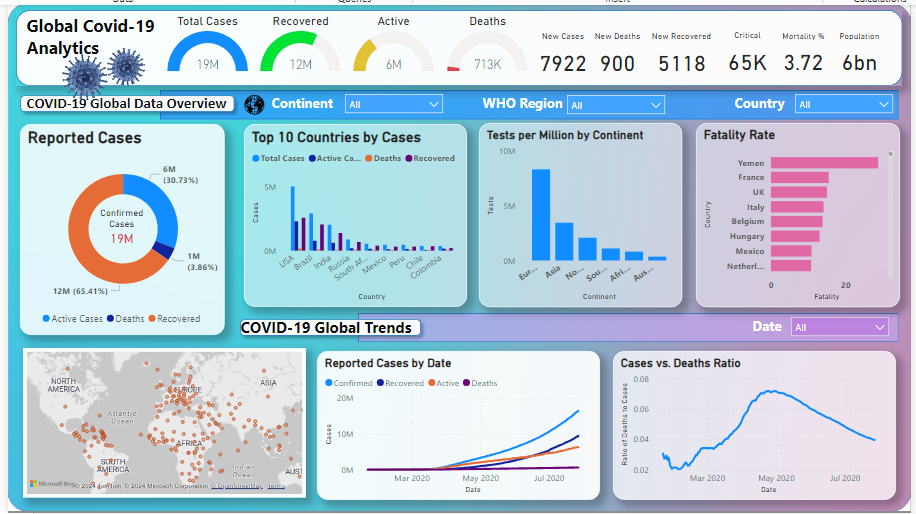

This screenshot's page, from the dashboard's own definition file:
{"tool":"powerbi","page":{"name":"Page 1","canvas":[1280,720],"ordinal":0},"visuals":[{"type":"donutChart","title":"Reported Cases","fields":{"Y":["worldometer_data.Active Case","worldometer_data.Deaths","worldometer_data.Recovered"]},"box":[16.7,168.1,290.3,298.6],"z":0},{"type":"shape","box":[495.9,436.6,766.2,41.4],"z":1000},{"type":"shape","box":[215.2,120.3,1046.8,41.8],"z":2000},{"type":"shape","box":[8.6,118.6,321.4,41.4],"z":3000},{"type":"shape","box":[11.2,7.5,1256.2,107.5],"z":4000},{"type":"map","fields":{"Category":["worldometer_data.Country/Region"]},"box":[21.7,485.5,401.4,211.6],"z":5000},{"type":"gauge","title":"Total Cases","fields":{"Y":["Sum(worldometer_data.TotalCases)"]},"box":[216.7,12.4,132.2,86.2],"z":6000},{"type":"gauge","title":"Active","fields":{"Y":["Sum(worldometer_data.ActiveCases)"]},"box":[481,12.4,132.2,86.2],"z":7000},{"type":"gauge","title":"Deaths","fields":{"Y":["Sum(worldometer_data.TotalDeaths)"]},"box":[613.2,12.4,132.2,86.2],"z":8000},{"type":"gauge","title":"Recovered","fields":{"Y":["Sum(worldometer_data.TotalRecovered)"]},"box":[348.9,12.4,132.2,86.2],"z":9000},{"type":"card","title":"New Cases","fields":{"Values":["Sum(worldometer_data.NewCases)"]},"box":[733.8,36.2,105,73.8],"z":10000},{"type":"card","title":"New Deaths","fields":{"Values":["Sum(worldometer_data.NewDeaths)"]},"box":[823.8,36.2,103.8,73.8],"z":11000},{"type":"card","title":"New Recovered","fields":{"Values":["Sum(worldometer_data.NewRecovered)"]},"box":[927.5,36.2,102.5,73.8],"z":12000},{"type":"slicer","fields":{"Values":["worldometer_data.Continent"]},"box":[467.4,116.6,158.9,45.7],"z":13000},{"type":"card","title":"Critical","fields":{"Values":["Sum(worldometer_data.Serious,Critical)"]},"box":[1020,37.5,103.8,72.5],"z":14000},{"type":"card","title":"Confirmed Cases","fields":{"Values":["Sum(worldometer_data.TotalCases)"]},"box":[116.7,287.5,90.3,61.1],"z":15000},{"type":"lineChart","title":"Reported Cases by Date","fields":{"Category":["full_grouped.Date.Variation.Date Hierarchy.Year"],"Y":["Sum(full_grouped.Confirmed)","Sum(full_grouped.Recovered)","Sum(full_grouped.Active)","Sum(full_grouped.Deaths)"]},"box":[438.6,490,401.4,211.4],"z":16000},{"type":"clusteredColumnChart","title":"Top 10 Countries by Cases","fields":{"Category":["worldometer_data.Country/Region"],"Y":["Sum(worldometer_data.TotalCases)","worldometer_data.Active Cases","worldometer_data.Deaths","worldometer_data.Recovered"]},"box":[334.8,168.1,315.9,259.4],"z":17000},{"type":"card","title":"Mortality %","fields":{"Values":["worldometer_data.FatalityRate"]},"box":[1110,36.2,103.8,72.5],"z":18000},{"type":"image","box":[52.5,30,163.8,136.2],"z":19000},{"type":"textbox","box":[21.2,7.5,198.8,80],"z":20000},{"type":"image","box":[1198.6,0,81.9,55.6],"z":21000},{"type":"textbox","box":[21.4,120,314.3,41.4],"z":22000},{"type":"image","box":[330.4,120.7,38,42.4],"z":23000},{"type":"textbox","box":[368.5,120.7,112,68],"z":24000},{"type":"slicer","fields":{"Values":["worldometer_data.WHO Region"]},"box":[781.7,117.1,158.9,44.6],"z":25000},{"type":"textbox","box":[668,120.7,144.4,59.8],"z":26000},{"type":"slicer","fields":{"Values":["worldometer_data.Country/Region"]},"box":[1105.5,116.6,158.7,45.5],"z":27000},{"type":"textbox","box":[1025.1,120.9,88.5,53.6],"z":28000},{"type":"shape","box":[319.6,437,274,41.1],"z":29000},{"type":"textbox","box":[324.9,437,261.1,42.6],"z":30000},{"type":"slicer","fields":{"Values":["full_grouped.Date"]},"box":[1099.8,432.3,158.7,45.5],"z":31000},{"type":"textbox","box":[1050,437.1,58.6,52.9],"z":32000},{"type":"lineChart","title":"Cases vs. Deaths Ratio","fields":{"Category":["full_grouped.Date"],"Y":["full_grouped.DeathToCaseRatio"]},"box":[857.1,490,401.4,211.4],"z":33000},{"type":"barChart","title":" Fatality Rate","fields":{"Category":["worldometer_data.Country/Region"],"Y":["Sum(worldometer_data.Fatality Rate)"]},"box":[975,166.7,288.9,261.1],"z":34000},{"type":"columnChart","title":"Tests per Million by Continent","fields":{"Y":["Sum(worldometer_data.Tests/1M pop)"],"Category":["worldometer_data.Continent"]},"box":[668.1,166.7,288.4,260.9],"z":35000}]}

Visuals, with their boxes in screenshot pixels (x1, y1, x2, y2), scaled from the page's 1280x720 canvas onto the 916x514 screenshot:
"Reported Cases" donutChart: {"x1": 12, "y1": 120, "x2": 220, "y2": 333}
shape: {"x1": 355, "y1": 312, "x2": 903, "y2": 341}
shape: {"x1": 154, "y1": 86, "x2": 903, "y2": 116}
shape: {"x1": 6, "y1": 85, "x2": 236, "y2": 114}
shape: {"x1": 8, "y1": 5, "x2": 907, "y2": 82}
map - worldometer_data.Country/Region: {"x1": 16, "y1": 347, "x2": 303, "y2": 498}
"Total Cases" gauge: {"x1": 155, "y1": 9, "x2": 250, "y2": 70}
"Active" gauge: {"x1": 344, "y1": 9, "x2": 439, "y2": 70}
"Deaths" gauge: {"x1": 439, "y1": 9, "x2": 533, "y2": 70}
"Recovered" gauge: {"x1": 250, "y1": 9, "x2": 344, "y2": 70}
"New Cases" card: {"x1": 525, "y1": 26, "x2": 600, "y2": 79}
"New Deaths" card: {"x1": 590, "y1": 26, "x2": 664, "y2": 79}
"New Recovered" card: {"x1": 664, "y1": 26, "x2": 737, "y2": 79}
slicer - worldometer_data.Continent: {"x1": 334, "y1": 83, "x2": 448, "y2": 116}
"Critical" card: {"x1": 730, "y1": 27, "x2": 804, "y2": 79}
"Confirmed Cases" card: {"x1": 84, "y1": 205, "x2": 148, "y2": 249}
"Reported Cases by Date" lineChart: {"x1": 314, "y1": 350, "x2": 601, "y2": 501}
"Top 10 Countries by Cases" clusteredColumnChart: {"x1": 240, "y1": 120, "x2": 466, "y2": 305}
"Mortality %" card: {"x1": 794, "y1": 26, "x2": 869, "y2": 78}
image: {"x1": 38, "y1": 21, "x2": 155, "y2": 119}
textbox: {"x1": 15, "y1": 5, "x2": 157, "y2": 62}
image: {"x1": 858, "y1": 0, "x2": 915, "y2": 40}
textbox: {"x1": 15, "y1": 86, "x2": 240, "y2": 115}
image: {"x1": 236, "y1": 86, "x2": 264, "y2": 116}
textbox: {"x1": 264, "y1": 86, "x2": 344, "y2": 135}
slicer - worldometer_data.WHO Region: {"x1": 559, "y1": 84, "x2": 673, "y2": 115}
textbox: {"x1": 478, "y1": 86, "x2": 581, "y2": 129}
slicer - worldometer_data.Country/Region: {"x1": 791, "y1": 83, "x2": 905, "y2": 116}
textbox: {"x1": 734, "y1": 86, "x2": 797, "y2": 125}
shape: {"x1": 229, "y1": 312, "x2": 425, "y2": 341}
textbox: {"x1": 233, "y1": 312, "x2": 419, "y2": 342}
slicer - full_grouped.Date: {"x1": 787, "y1": 309, "x2": 901, "y2": 341}
textbox: {"x1": 751, "y1": 312, "x2": 793, "y2": 350}
"Cases vs. Deaths Ratio" lineChart: {"x1": 613, "y1": 350, "x2": 901, "y2": 501}
" Fatality Rate" barChart: {"x1": 698, "y1": 119, "x2": 904, "y2": 305}
"Tests per Million by Continent" columnChart: {"x1": 478, "y1": 119, "x2": 684, "y2": 305}
